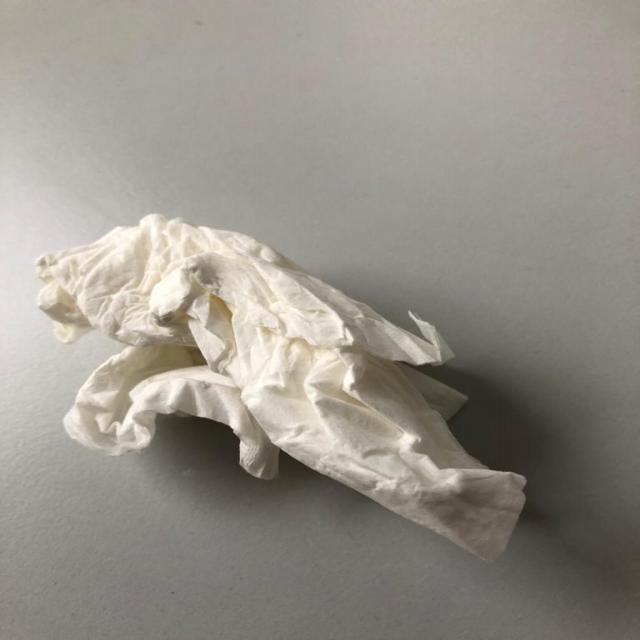kitchen paper: (33, 208, 527, 567)
